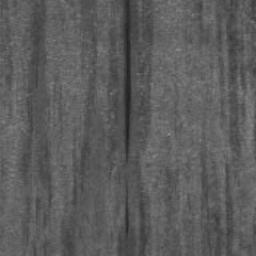Scratches: (124, 0, 131, 163), (125, 182, 129, 238)
